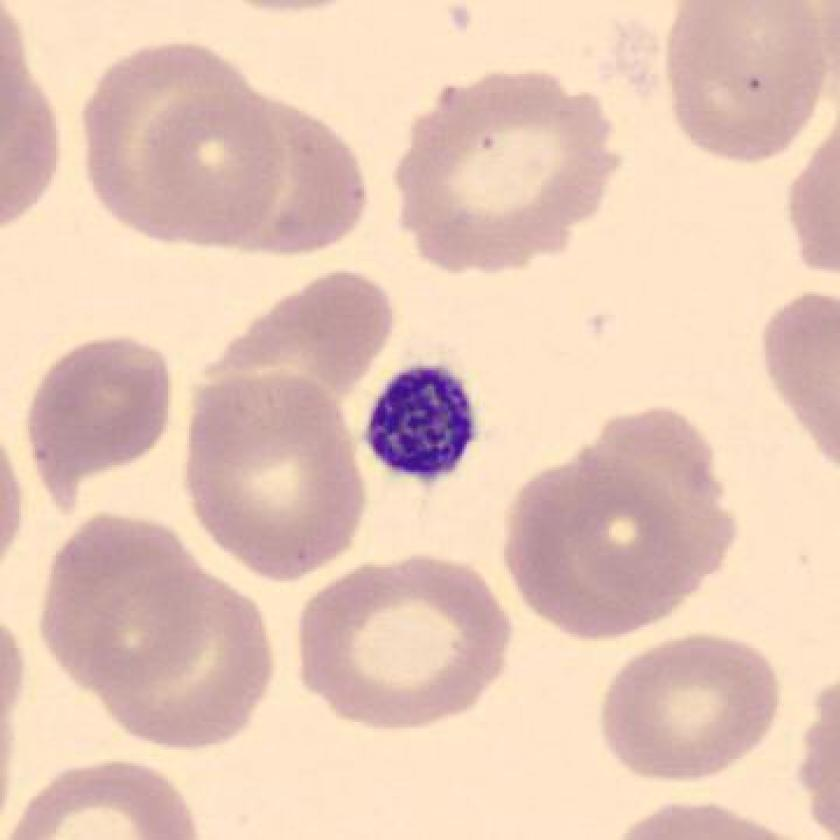platelets: (353, 355, 491, 494)
